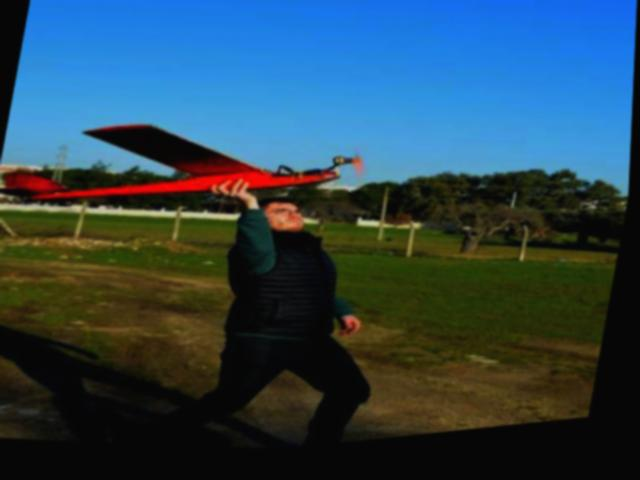iha: (0, 56, 380, 279)
